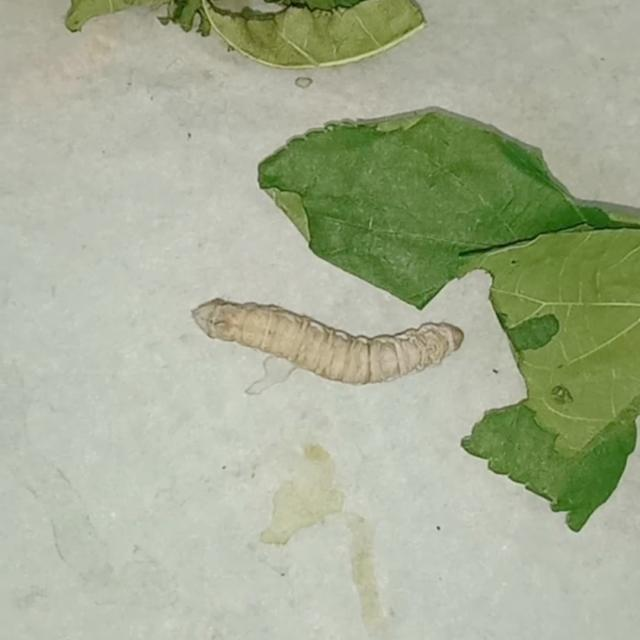Grasserie: (184, 277, 480, 396)
